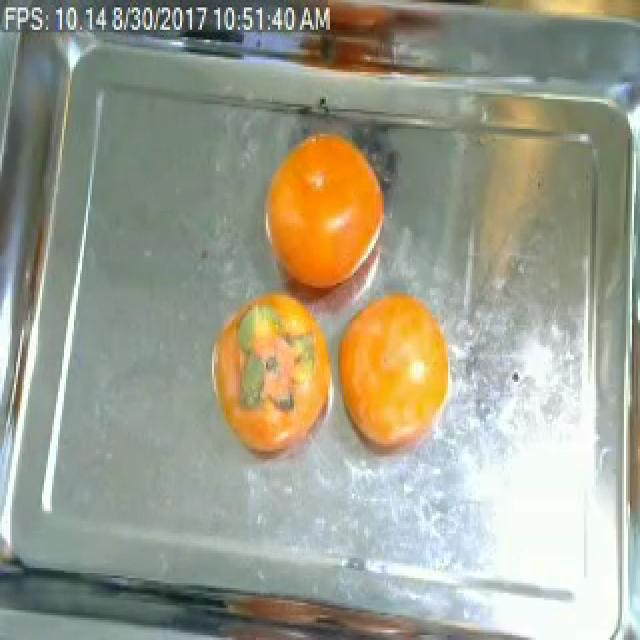Fruit: (246, 114, 398, 310), (196, 273, 332, 466), (330, 275, 464, 469)
